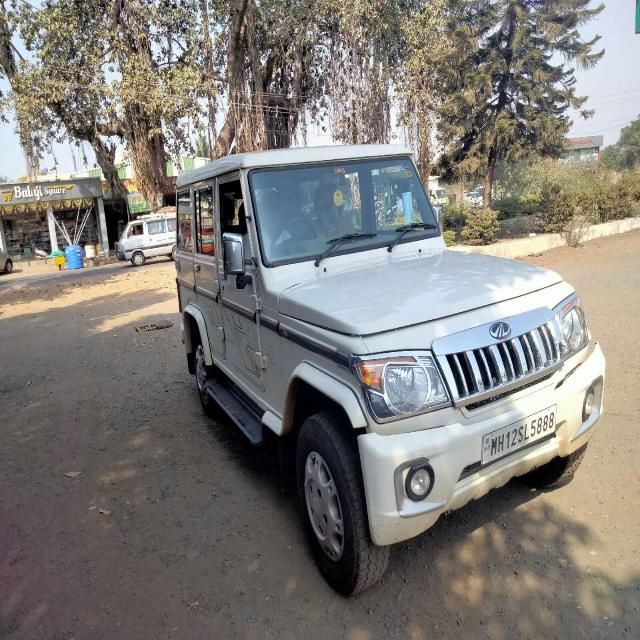light_vehicle: (170, 157, 606, 483)
